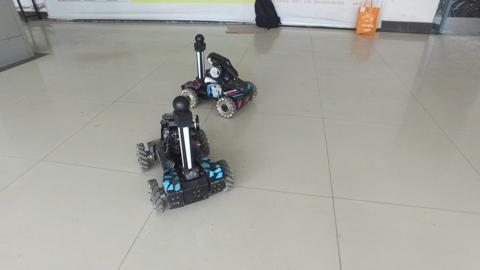chariot: (131, 96, 234, 215), (175, 32, 256, 122)
